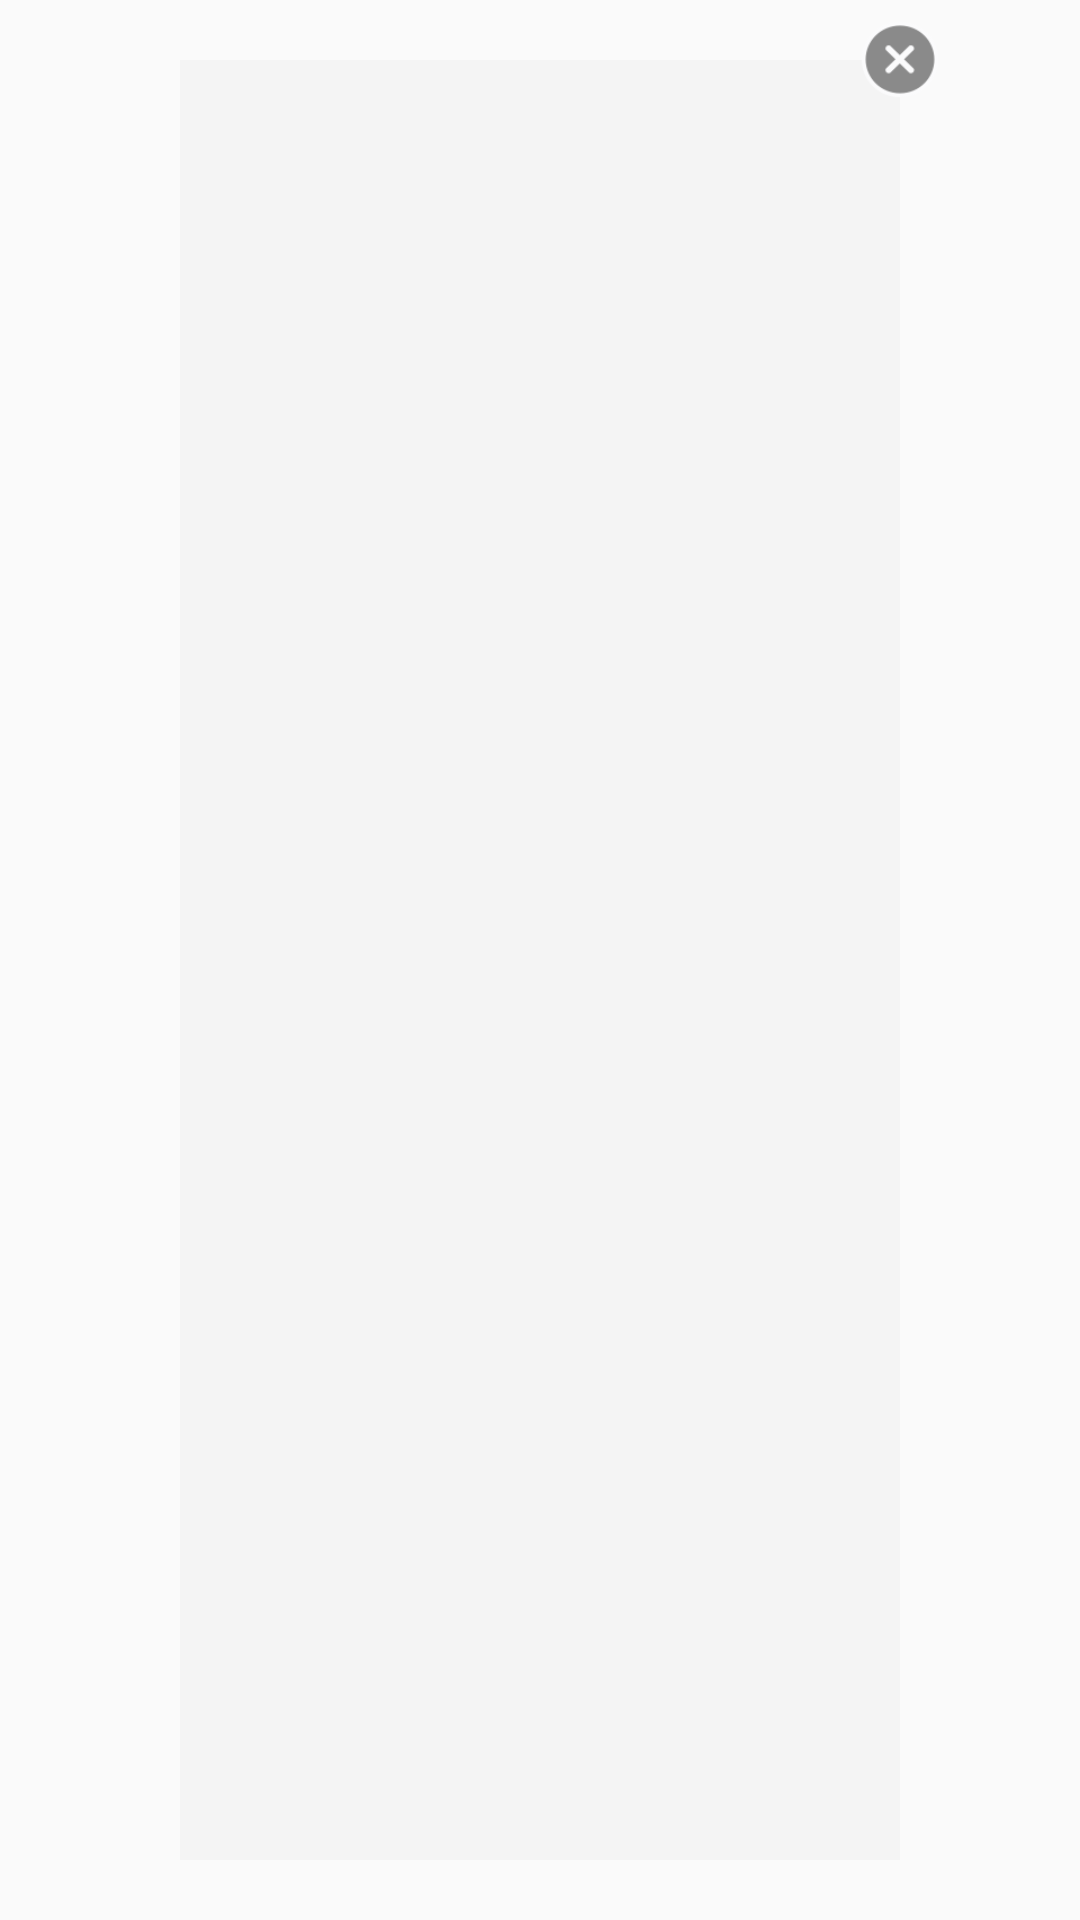

Icons on this 1080 x 1920 Android screen, each with its box as (x1, y1, x2, y2):
close: (865, 25, 935, 94)
